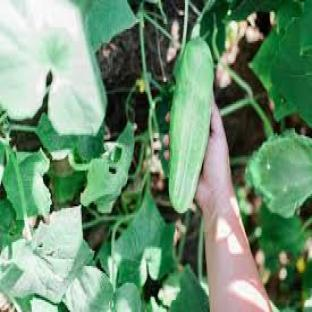Cucumber: (170, 38, 214, 213)
